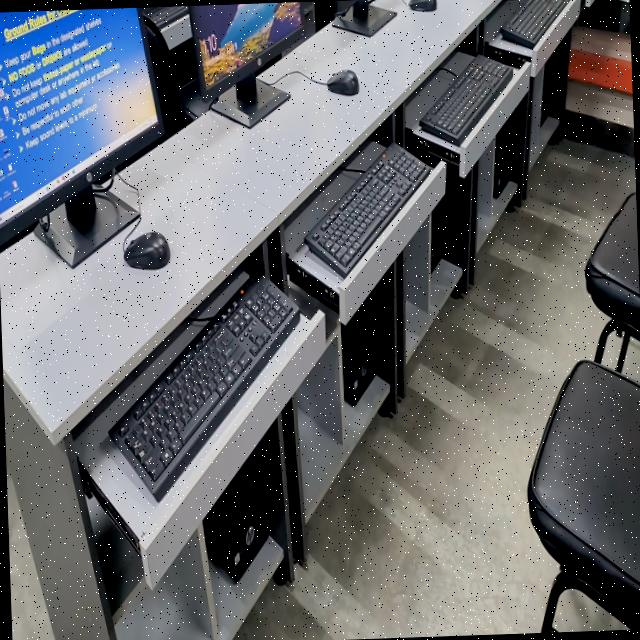Chair: (526, 358, 640, 633), (583, 191, 640, 370)
Cpu: (202, 448, 267, 580), (430, 162, 476, 296), (341, 292, 374, 405), (491, 115, 512, 196)
Keyboard: (110, 282, 294, 493), (304, 144, 429, 274), (418, 56, 511, 145), (499, 0, 567, 47)
Monitor: (0, 6, 161, 242), (187, 1, 301, 97)
Mouse: (123, 230, 169, 268), (325, 68, 358, 94), (408, 0, 435, 9)
